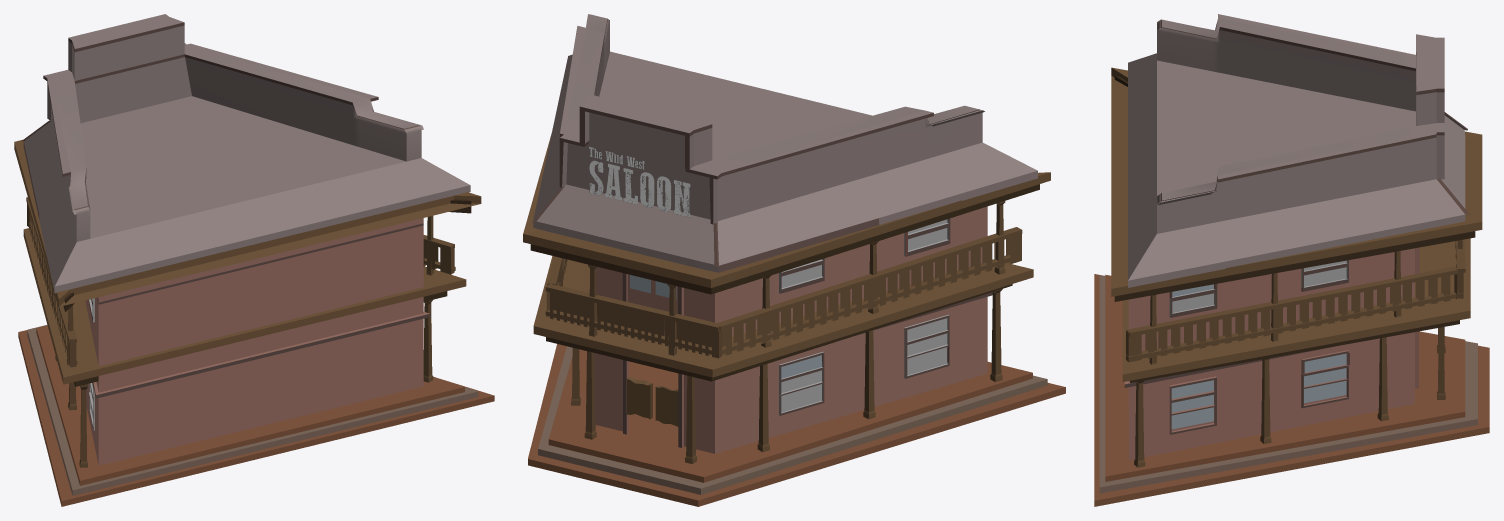
File: Saloon.fbx
The picture shows the model from 3 angles, left to right: view 1: azimuth 30°, elevation 25°; view 2: azimuth 150°, elevation 25°; view 3: azimuth 270°, elevation 25°; orthographic projection. The views are drawn at different scales.
Visible parts, largest first — view 1: pCube30, pCube22, pCube23, pCube26, pCube29, pCube25, pCube24, pCube47, pCube38, pCube52, pCube35, pCube50; view 2: pCube30, pCube22, pCube23, pCube26, pCube25, pCube29, pCube24, pCube47, pCube57, pCube28, pPlane1, pCube51 (+11 smaller); view 3: pCube30, pCube22, pCube23, pCube26, pCube29, pCube25, pCube24, pCube52, pCube54, pCube28, pCube53, pCube27 (+4 smaller).
Boxes of the visible parts, x1=… form: pCube30: x1=22, y1=14, x2=470, y2=293; pCube22: x1=85, y1=218, x2=430, y2=465; pCube23: x1=36, y1=325, x2=464, y2=485; pCube26: x1=23, y1=228, x2=466, y2=384; pCube29: x1=14, y1=139, x2=481, y2=306; pCube25: x1=18, y1=330, x2=494, y2=506; pCube24: x1=27, y1=325, x2=478, y2=495; pCube47: x1=29, y1=210, x2=76, y2=367; pCube38: x1=423, y1=300, x2=433, y2=382; pCube52: x1=423, y1=242, x2=454, y2=274; pCube35: x1=79, y1=384, x2=87, y2=467; pCube50: x1=29, y1=222, x2=77, y2=364; pCube30: x1=532, y1=14, x2=1037, y2=272; pCube22: x1=594, y1=206, x2=992, y2=453; pCube23: x1=548, y1=349, x2=1032, y2=482; pCube26: x1=533, y1=256, x2=1033, y2=377; pCube25: x1=528, y1=344, x2=1065, y2=506; pCube29: x1=523, y1=135, x2=1050, y2=287; pCube24: x1=538, y1=346, x2=1047, y2=494; pCube47: x1=722, y1=234, x2=1021, y2=355; pCube57: x1=546, y1=291, x2=722, y2=358; pCube28: x1=530, y1=184, x2=1039, y2=294; pPlane1: x1=589, y1=146, x2=690, y2=217; pCube51: x1=717, y1=227, x2=1022, y2=330; pCube30: x1=1128, y1=14, x2=1468, y2=287; pCube22: x1=1124, y1=247, x2=1419, y2=460; pCube23: x1=1105, y1=274, x2=1465, y2=481; pCube26: x1=1122, y1=238, x2=1470, y2=381; pCube29: x1=1111, y1=67, x2=1482, y2=296; pCube25: x1=1094, y1=274, x2=1489, y2=506; pCube24: x1=1099, y1=275, x2=1477, y2=493; pCube52: x1=1126, y1=274, x2=1456, y2=362; pCube54: x1=1126, y1=266, x2=1457, y2=336; pCube28: x1=1114, y1=76, x2=1475, y2=301; pCube53: x1=1126, y1=291, x2=1456, y2=360; pCube27: x1=1130, y1=320, x2=1459, y2=382.
Bounding box in the file's own units: 20.64 × 14.04 × 15.2.
